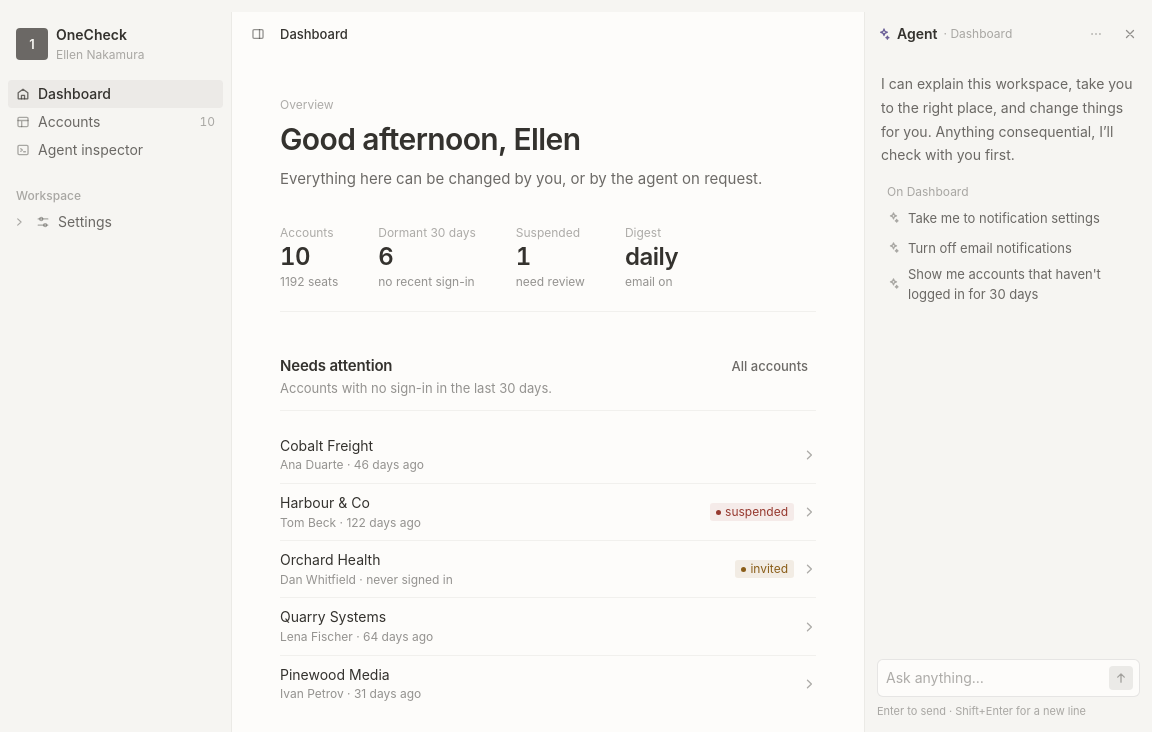
it: acceptance: compound query then staged export › builds the query, resolves every reference, and stages the export
The width and height of the screenshot is (1152, 732).
Click the text box named "Message the agent" at (994, 678), box [886,666,1103,690]
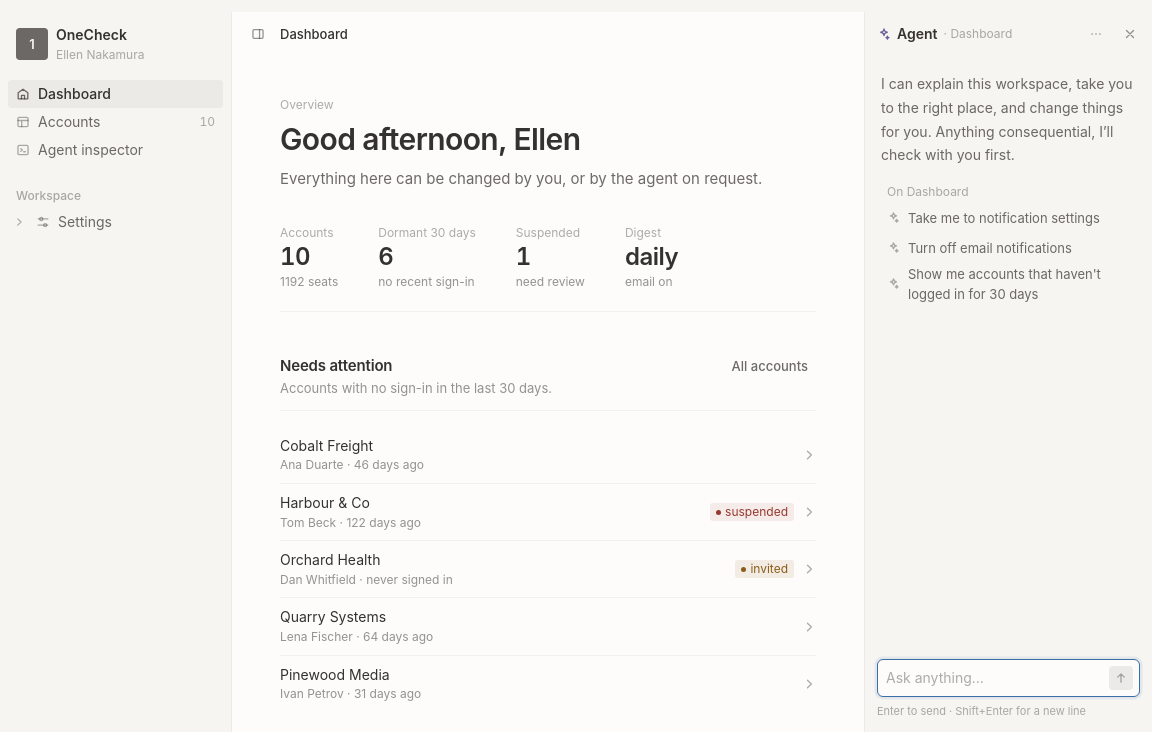
Type keys "All accounts created before 11.09.2025 that are mine, in my unit, approved by priya@northwind.example — export them"
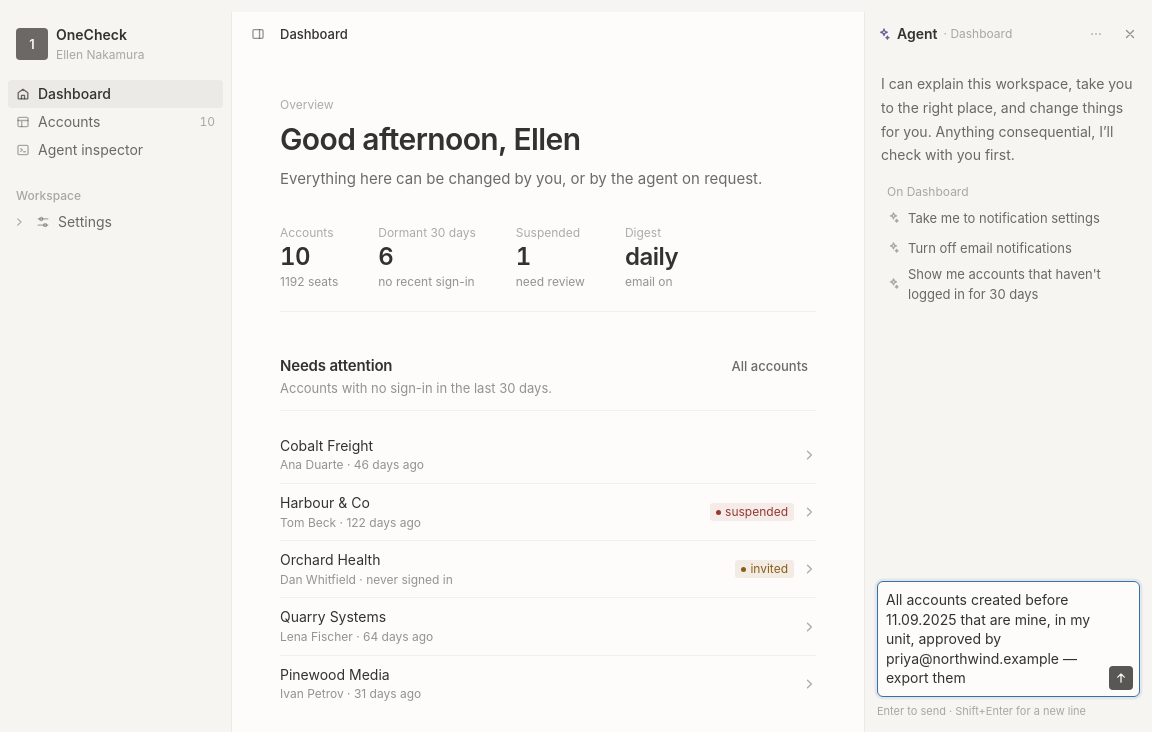
Click the button named "Send" at (1121, 678), box [1109,666,1133,690]
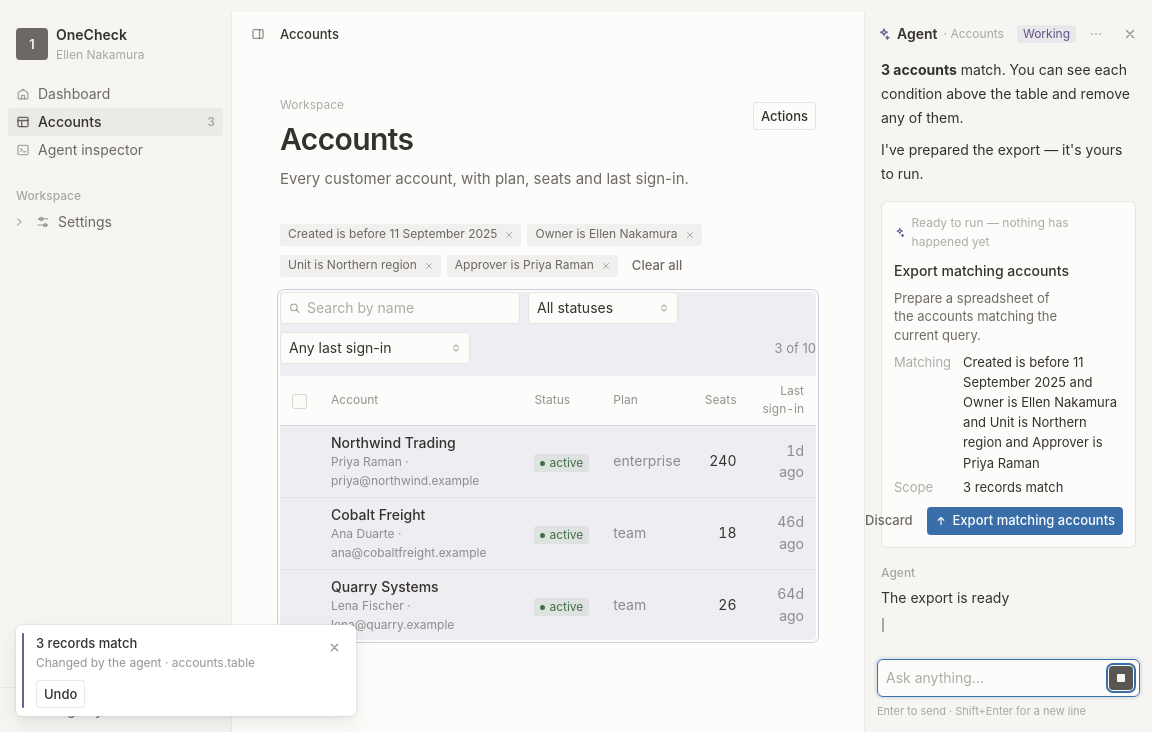
Result: the text "Northern region" is shown at [963,354,1117,470]
Result: the text "Ready to run — nothing has happened yet" is shown at [912,215,1068,249]
Result: the text "3 records match" next to "Scope" is shown at [963,479,1063,495]
Click the button "Export matching accounts" at (1025, 521), box [926,507,1123,535]
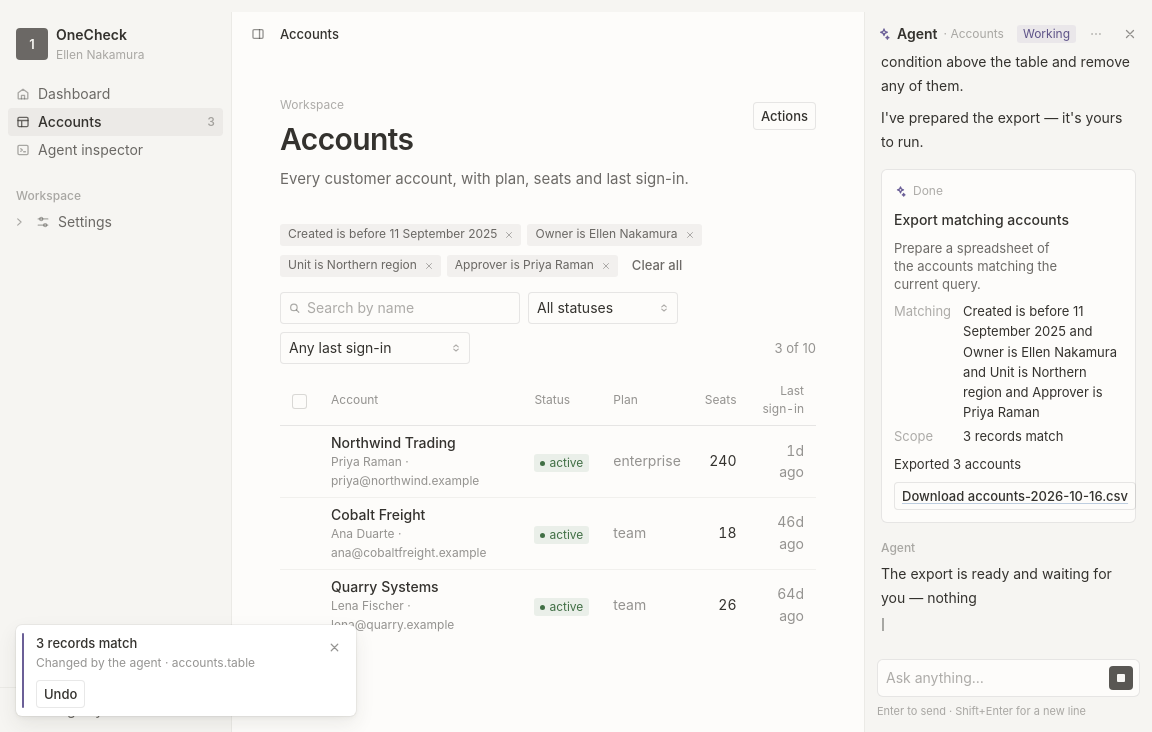
Result: the text "Exported 3 accounts" is shown at [894,454,1021,474]
Result: the link "Download accounts-2026-10-16.csv" is shown at [894,482,1136,510]
